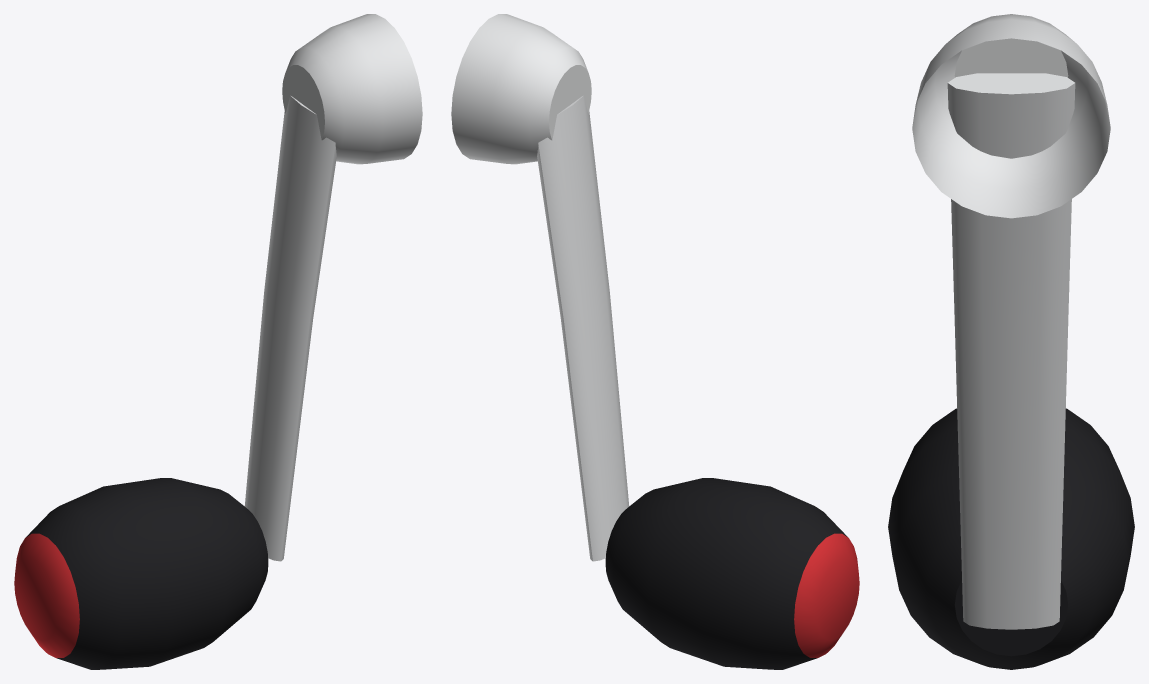
Rendered from crank.fbx.
3 views of the same model, side by side, from view 1: azimuth 30°, elevation 25°; view 2: azimuth 150°, elevation 25°; view 3: azimuth 270°, elevation 25° (orthographic). The views are drawn at different scales.
Visible parts, largest first — view 1: crank; view 2: crank; view 3: crank.
Part boxes in pixels (x1=…): crank: x1=14, y1=14, x2=422, y2=669; crank: x1=451, y1=14, x2=859, y2=669; crank: x1=888, y1=14, x2=1134, y2=669.
Size of the model in its own units: 3.77 by 5.97 by 1.74.
